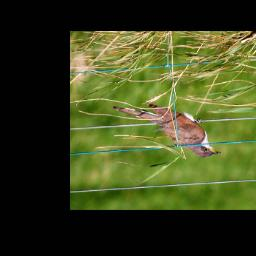Cuckoo: (110, 98, 223, 160)
